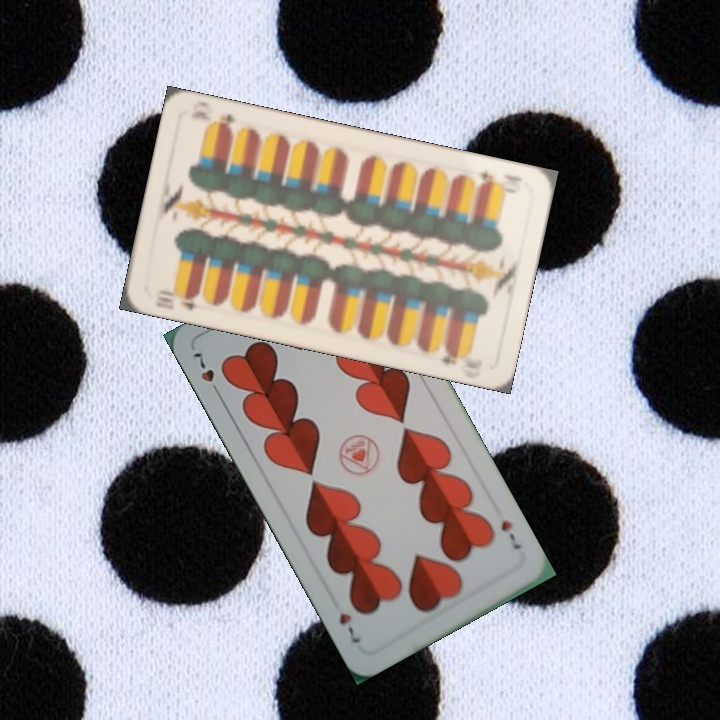E10: (151, 287, 202, 313), (472, 167, 510, 189)
H7: (188, 348, 225, 400), (496, 516, 524, 552)
